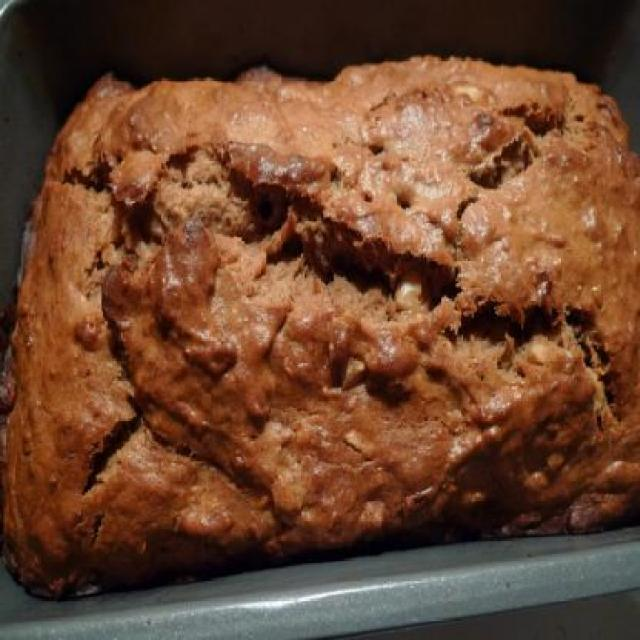Bread: (0, 49, 640, 600)
